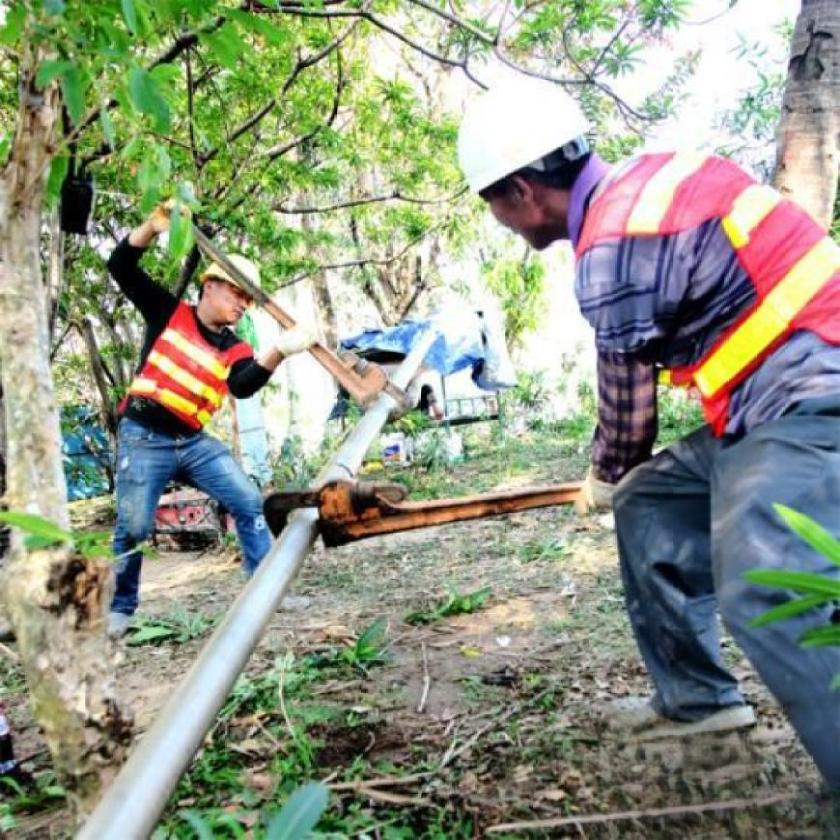Con_casco: (448, 75, 598, 265), (200, 243, 268, 344)
